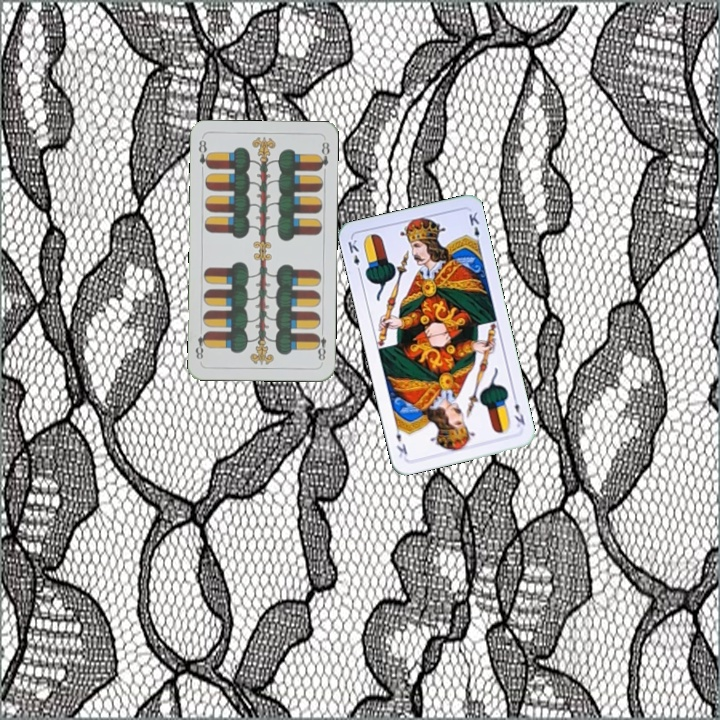E8: (194, 135, 212, 171), (312, 325, 329, 363)
EK: (344, 235, 364, 276), (508, 392, 528, 430)
